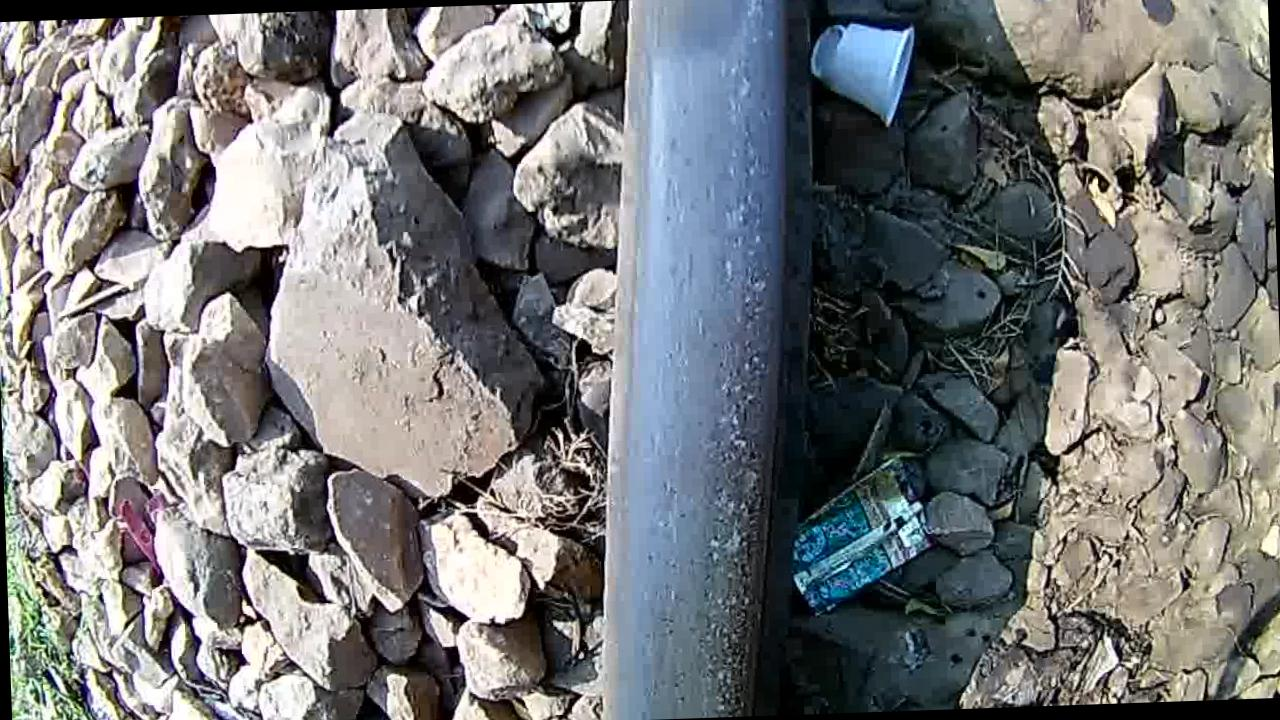bolt_missing: (595, 0, 786, 206)
